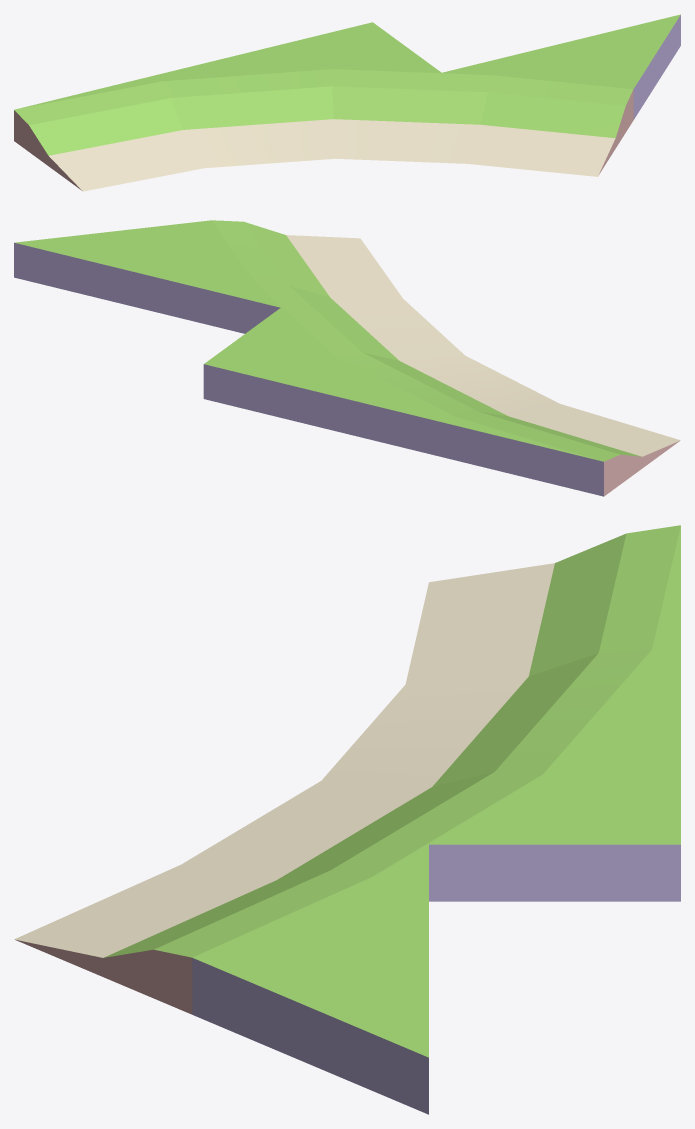
The model's file is Path_Terrain_45_Degrees_Curve_Outer_3x5.glb.
3 renders of one model, top to bottom at view 1: azimuth 30°, elevation 25°; view 2: azimuth 150°, elevation 25°; view 3: azimuth 270°, elevation 25°, orthographic. The views are drawn at different scales.
Visible parts, largest first — view 1: Path_Terrain_45_Degrees_Curve_Outer_3x5; view 2: Path_Terrain_45_Degrees_Curve_Outer_3x5; view 3: Path_Terrain_45_Degrees_Curve_Outer_3x5.
Boxes of the visible parts, x1,y1,x2,y2 form: Path_Terrain_45_Degrees_Curve_Outer_3x5: (14,14,680,191); Path_Terrain_45_Degrees_Curve_Outer_3x5: (14,220,680,496); Path_Terrain_45_Degrees_Curve_Outer_3x5: (14,525,680,1114).
Size of the model in its own units: 500 by 25 by 265.
